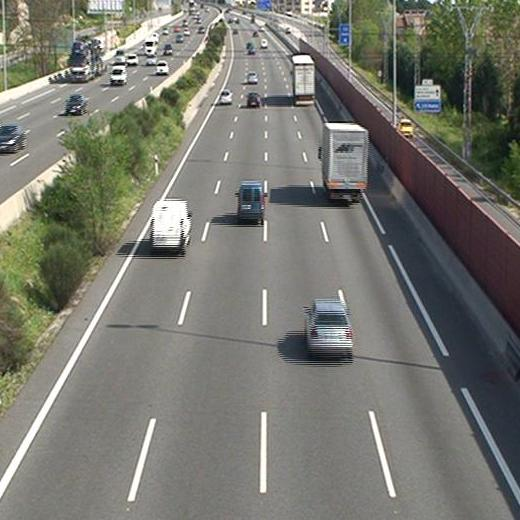car: (306, 300, 352, 356), (247, 92, 261, 107), (219, 90, 233, 103), (247, 71, 258, 83)
small-truck: (321, 123, 368, 202)
truck: (292, 55, 315, 105)
van: (151, 200, 192, 249), (237, 181, 266, 221)
